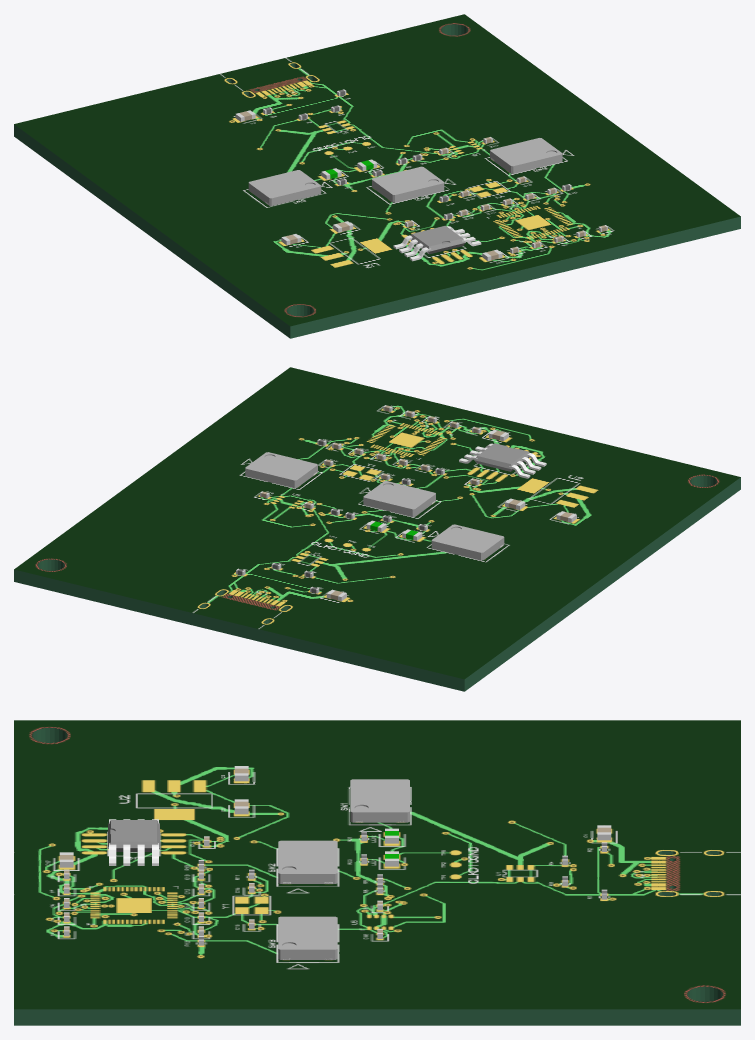
The picture shows the model from 3 angles, top to bottom: view 1: azimuth 30°, elevation 25°; view 2: azimuth 150°, elevation 25°; view 3: azimuth 270°, elevation 25°; orthographic projection. The views are drawn at different scales.
Visible parts, largest first — view 1: Box0, SW1, SW2, SW3, U4; view 2: Box0, SW1, SW3, SW2, U4; view 3: Box0, SW2, SW3, SW1, U4.
Boxes of the visible parts, x1,y1,x2,y2 form: Box0: (14, 14, 740, 338); SW1: (248, 170, 321, 205); SW2: (372, 166, 444, 202); SW3: (490, 138, 562, 173); U4: (393, 225, 481, 261); Box0: (14, 367, 740, 691); SW1: (431, 524, 504, 560); SW3: (245, 452, 317, 488); SW2: (363, 481, 435, 516); U4: (459, 443, 546, 478); Box0: (14, 720, 740, 1025); SW2: (278, 840, 337, 883); SW3: (278, 916, 337, 959); SW1: (350, 779, 409, 822); U4: (108, 819, 159, 865).
Bounding box in the file's own units: 61 × 2.88 × 64.8.
Materials: 10 (2 with a texture image).
